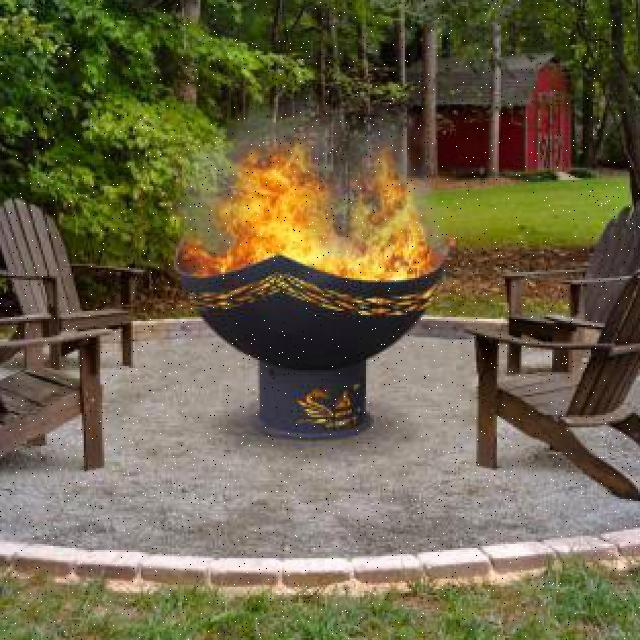fire: (215, 129, 427, 296)
smoke: (174, 133, 233, 270)
